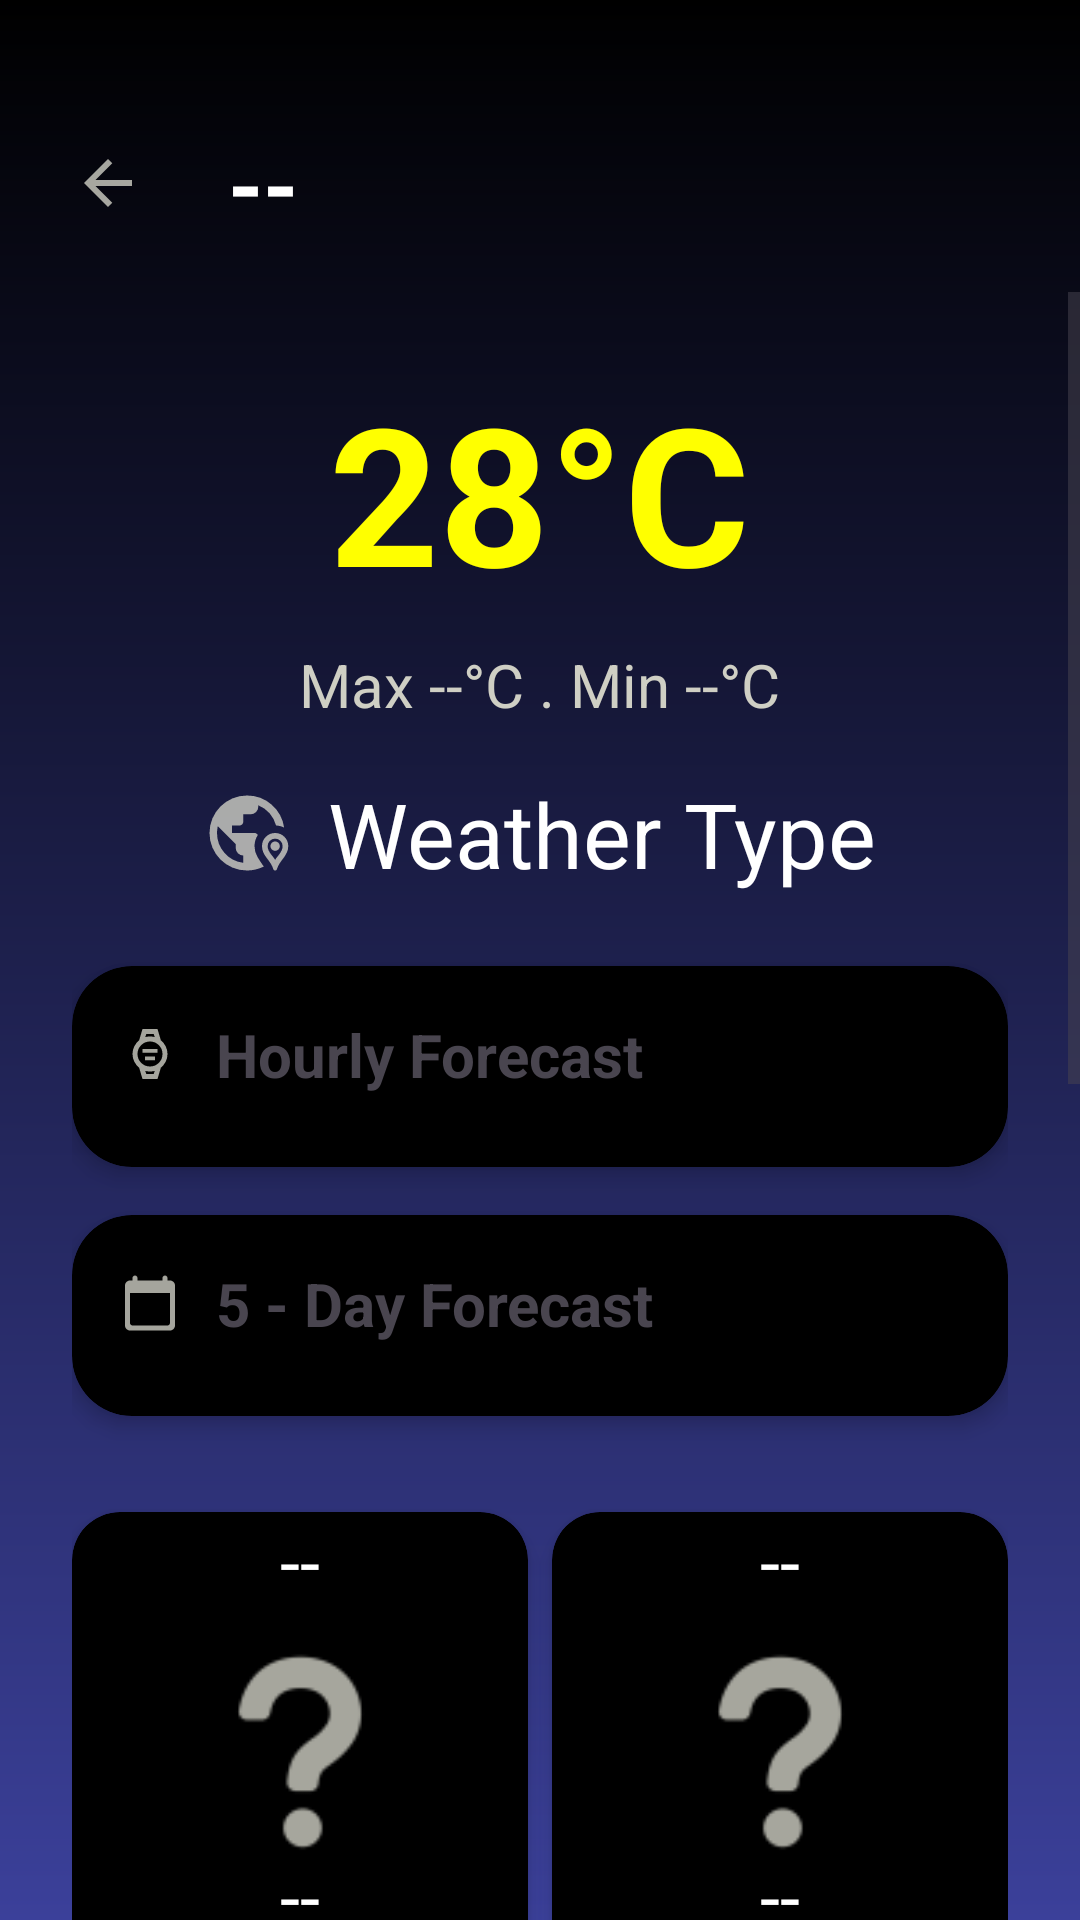

Locate icon controls on the screen. Image size 1080*1920, boxes as (x1, y1, x2, y2).
Back: (84, 159, 132, 207)
calendar: (125, 1275, 175, 1331)
unknown: (238, 1655, 362, 1848), (718, 1655, 842, 1848)
